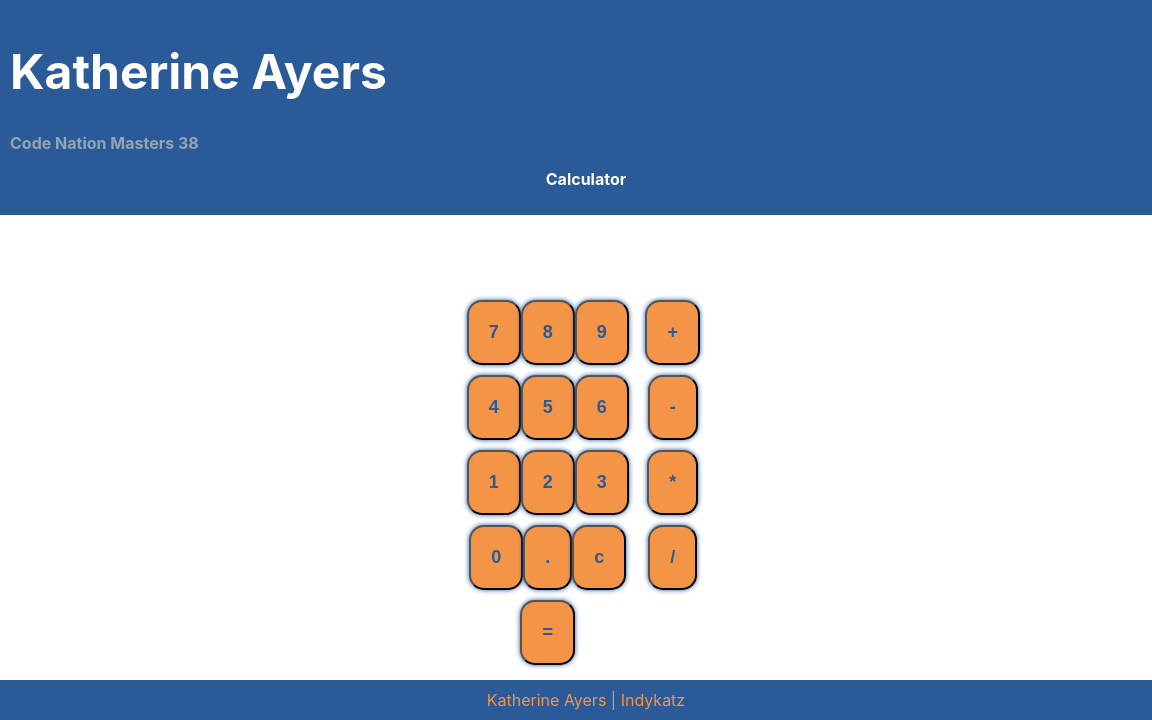
Scenario: should display 4 wen the user enters 2 + 2
Click the button "2": (548, 483) 521,450 -> 575,515
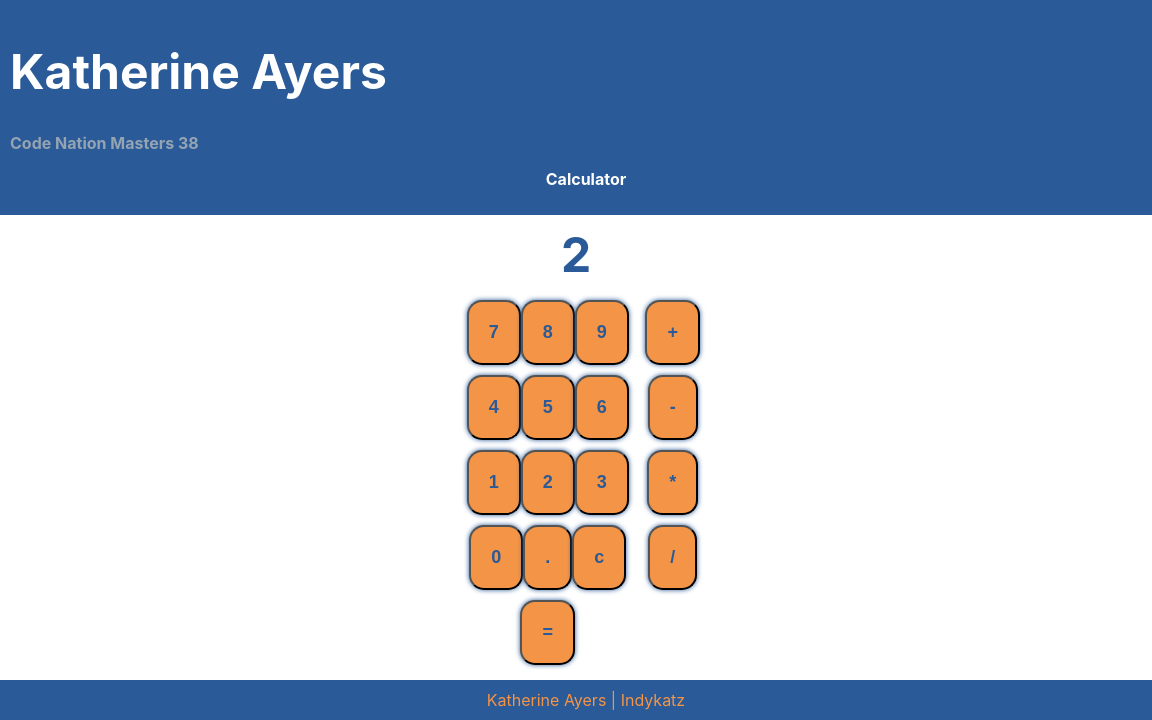
Click the button "+": (673, 333) 645,300 -> 700,365
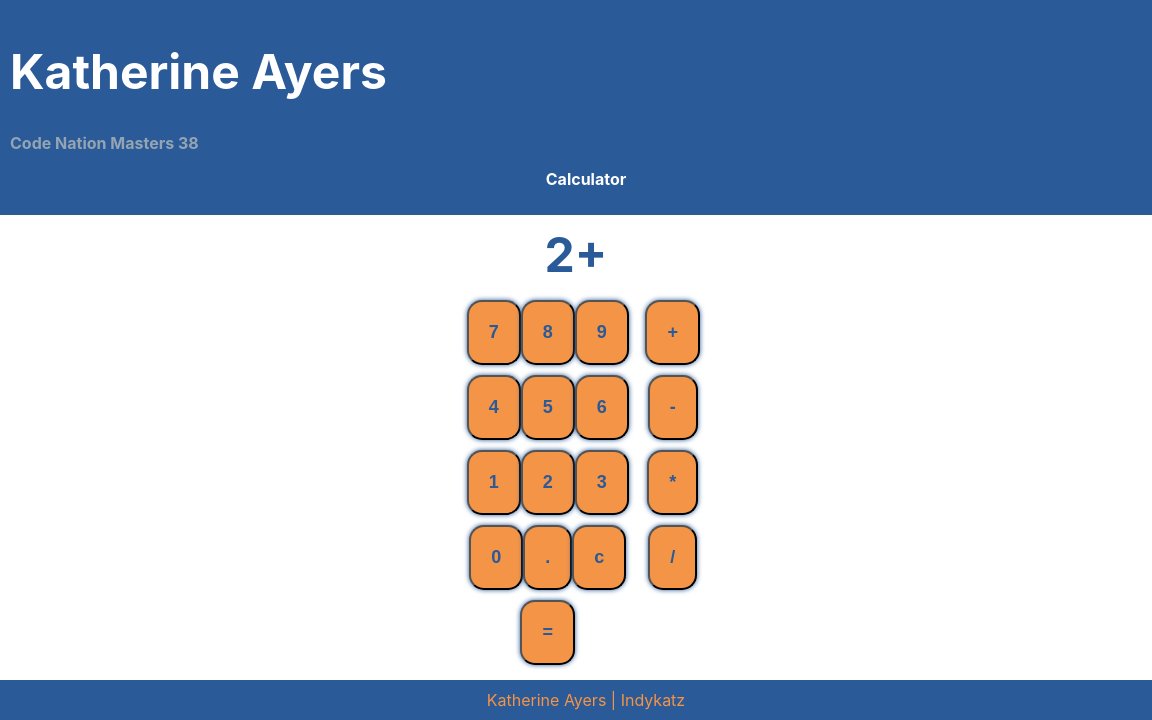
Click the button "2": (548, 483) 521,450 -> 575,515
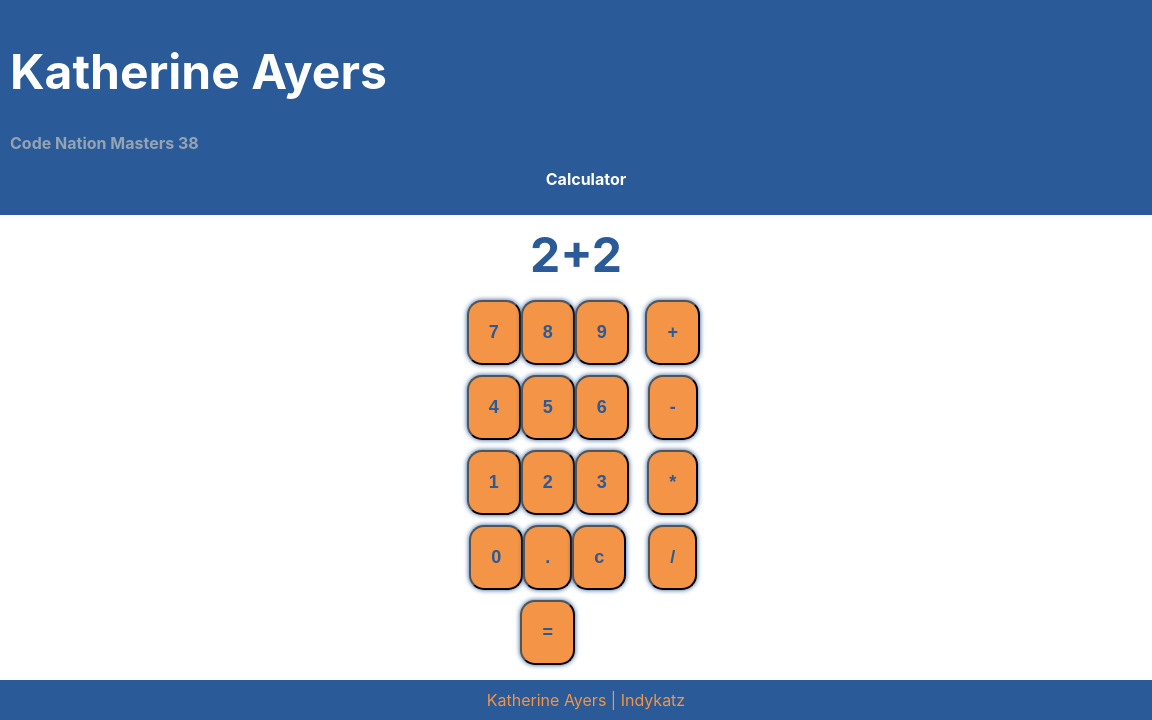
Click the button "=": (548, 633) 520,600 -> 575,665
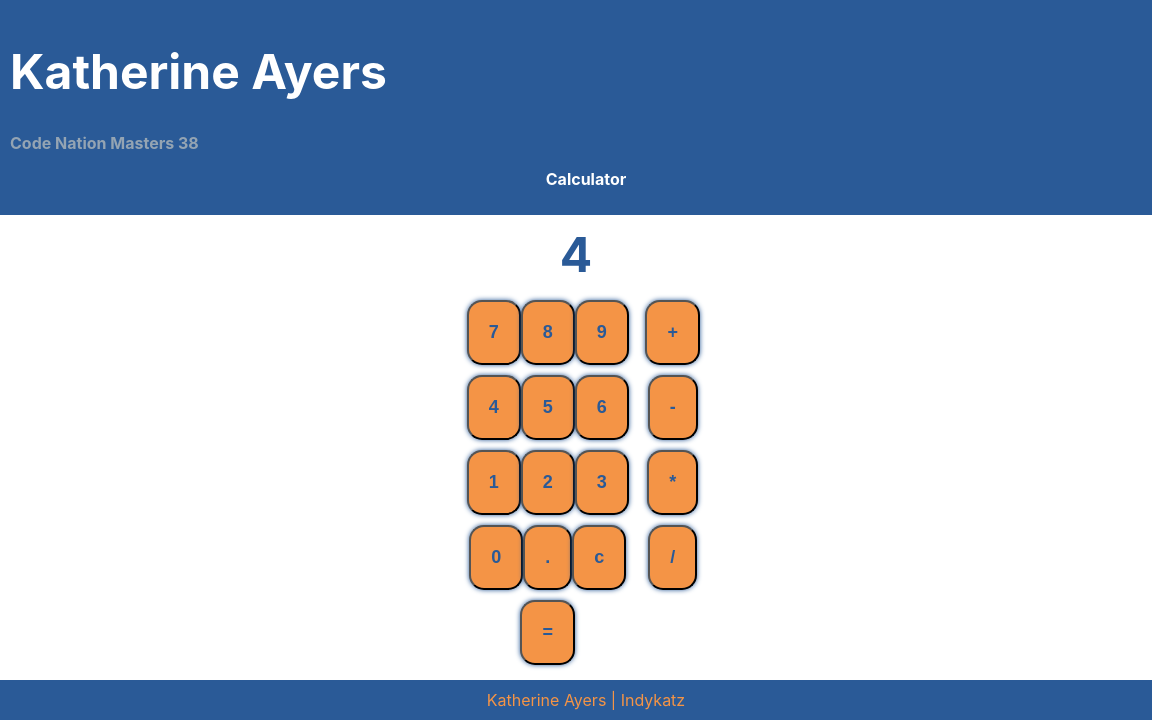
Result: the heading with test id "display" reads "4" at 560,225 -> 592,284
